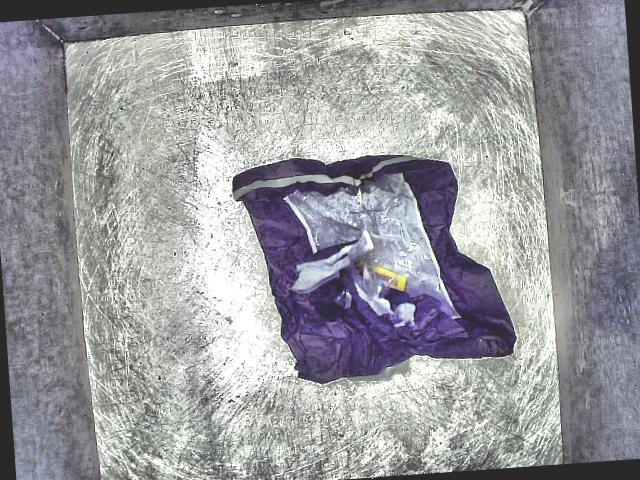Paper: (215, 137, 540, 434)
